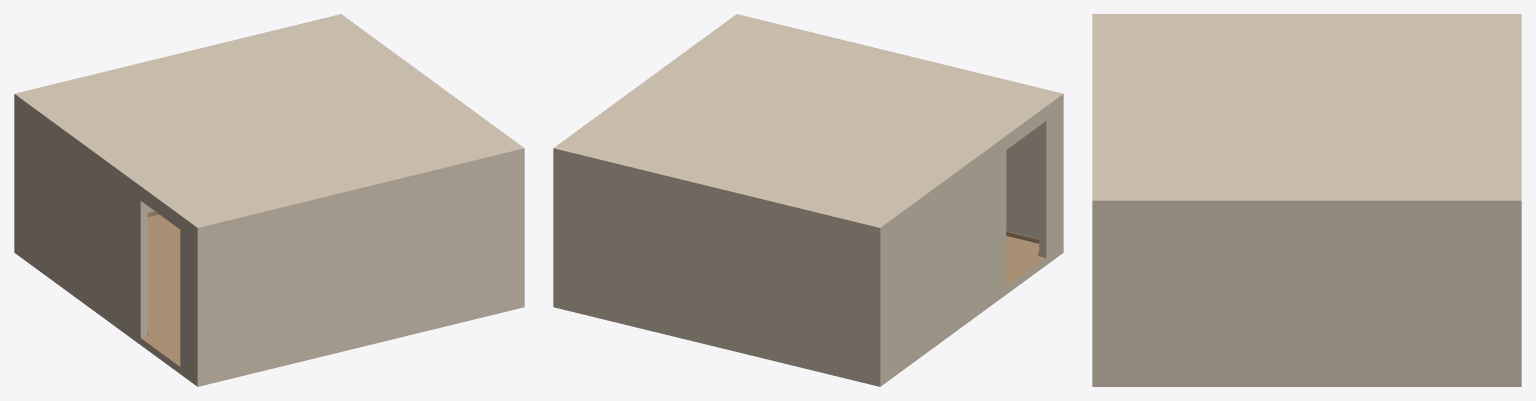
File: room_shell.fbx
3 renders of one model, left to right at view 1: azimuth 30°, elevation 25°; view 2: azimuth 150°, elevation 25°; view 3: azimuth 270°, elevation 25°, orthographic. The views are drawn at different scales.
Parts seen in each view (by area): view 1: room_shell; view 2: room_shell; view 3: room_shell.
Boxes of the visible parts, bbox=[...] form: room_shell: bbox=[14, 14, 524, 386]; room_shell: bbox=[553, 14, 1063, 386]; room_shell: bbox=[1092, 14, 1521, 386].
Size of the model in its own units: 7.1 by 6.9 by 3.3.
